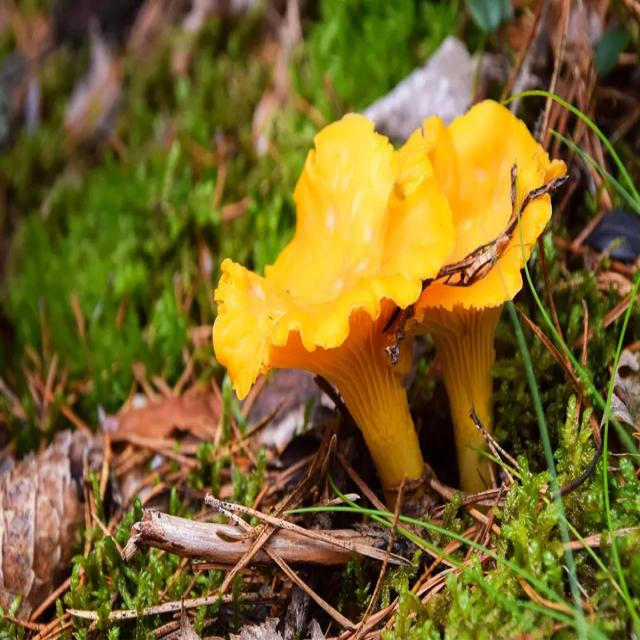chanterelle: (212, 114, 456, 502), (413, 102, 568, 495)
